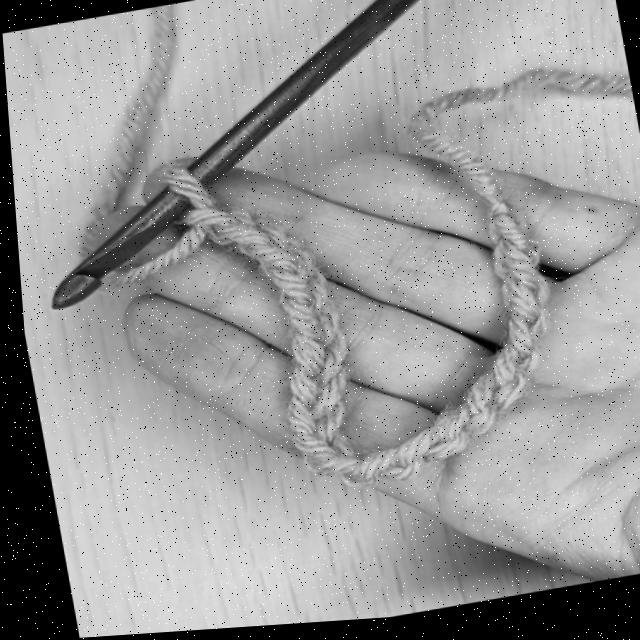ch: (458, 381, 521, 443), (283, 397, 344, 454), (370, 431, 432, 485), (287, 364, 339, 426), (287, 332, 339, 391), (266, 272, 324, 319), (252, 240, 309, 286), (416, 409, 464, 463), (281, 303, 334, 351), (497, 276, 544, 329), (333, 453, 390, 492), (490, 243, 533, 292), (487, 352, 530, 397), (227, 222, 284, 255), (299, 439, 351, 475), (501, 318, 540, 363), (486, 208, 520, 254), (208, 206, 254, 240)
